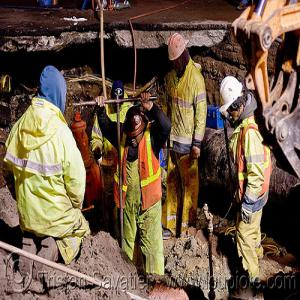red: (168, 33, 190, 72), (125, 108, 146, 147)
white: (219, 77, 246, 122)
